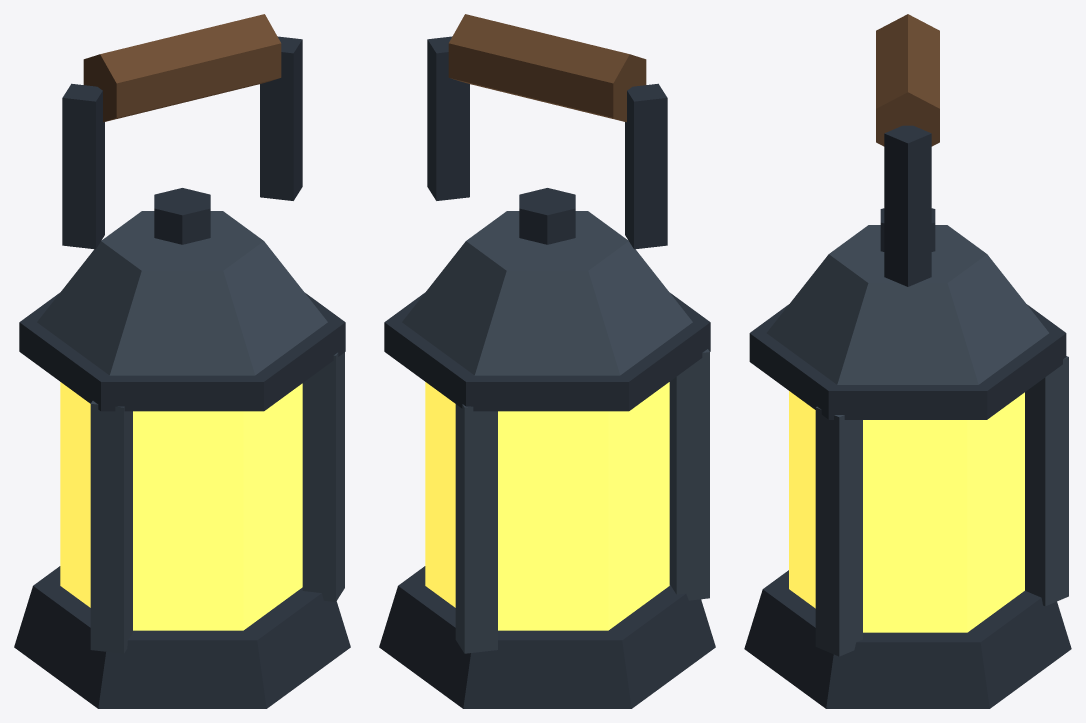
The model's file is hand_lantern.glb.
3 renders of one model, left to right at view 1: azimuth 30°, elevation 25°; view 2: azimuth 150°, elevation 25°; view 3: azimuth 270°, elevation 25°, orthographic. The views are drawn at different scales.
Visible parts, largest first — view 1: swing; view 2: swing; view 3: swing.
Boxes of the visible parts, x1=… form: swing: x1=14, y1=14, x2=350, y2=708; swing: x1=379, y1=14, x2=715, y2=708; swing: x1=744, y1=14, x2=1071, y2=708.
Bounding box in the file's own units: 0.1081 × 0.249 × 0.124.
